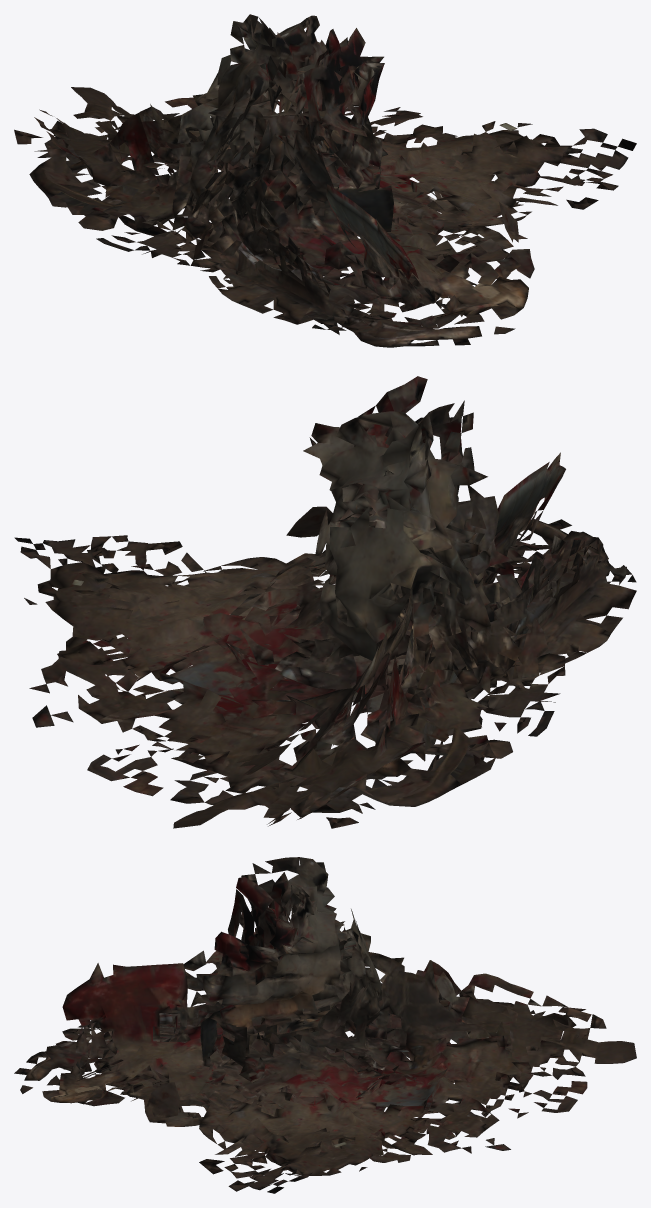
The model's file is creepy_old_junk_in_th_0124145154_texture.fbx.
3 renders of one model, top to bottom at view 1: azimuth 30°, elevation 25°; view 2: azimuth 150°, elevation 25°; view 3: azimuth 270°, elevation 25°, orthographic. The views are drawn at different scales.
Visible parts, largest first — view 1: Mesh1_Mesh1.058; view 2: Mesh1_Mesh1.058; view 3: Mesh1_Mesh1.058.
Boxes of the visible parts, x1=… form: Mesh1_Mesh1.058: x1=14, y1=14, x2=636, y2=347; Mesh1_Mesh1.058: x1=14, y1=376, x2=636, y2=828; Mesh1_Mesh1.058: x1=14, y1=857, x2=636, y2=1193.
Size of the model in its own units: 2138 by 1000 by 2658.
1 material, 1 textured.
